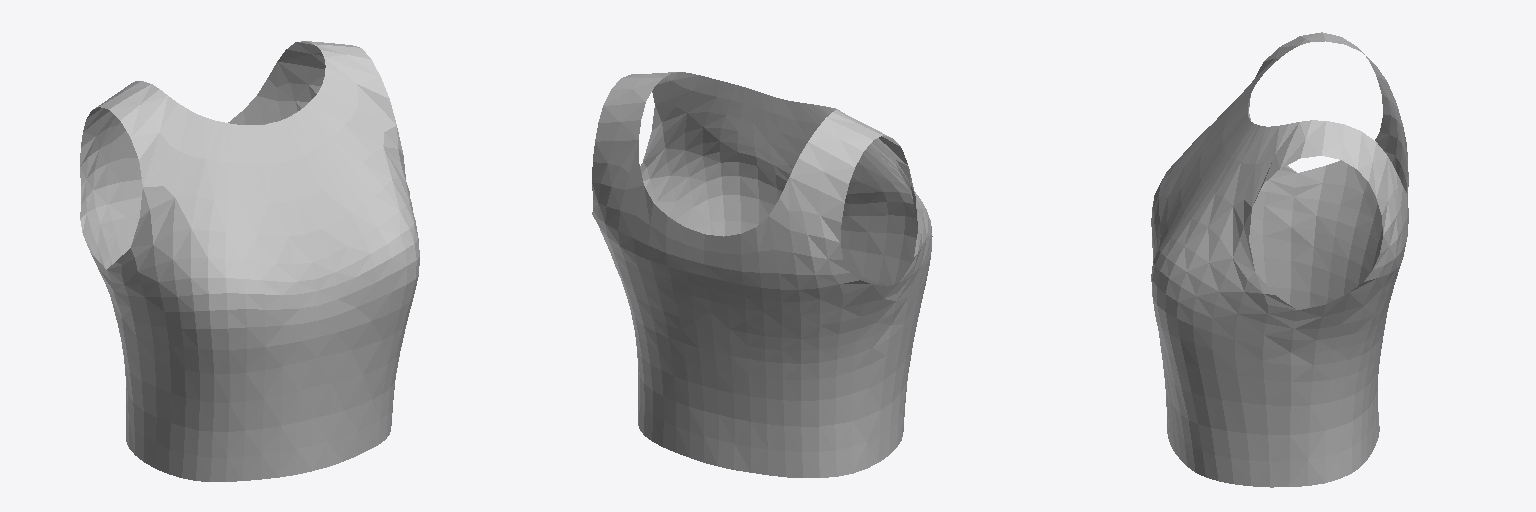
The model's file is 12_bodiceround.obj.
3 renders of one model, left to right at view 1: azimuth 30°, elevation 25°; view 2: azimuth 150°, elevation 25°; view 3: azimuth 270°, elevation 25°, orthographic.
Visible parts, largest first — view 1: bodicefrontleft, bodicefrontright, object_7, bodicebackleft, bodicebackright, bodiceback; view 2: bodiceback, bodicebackleft, bodicefrontleft, bodicebackright, object_7, bodicefrontright; view 3: object_7, bodicebackright, bodicebackleft, bodicefrontleft, bodicefrontright, bodiceback.
Boxes of the visible parts, <box> form: bodicefrontleft: <box>107,84,318,481</box>; bodicefrontright: <box>272,101,416,470</box>; object_7: <box>311,44,419,438</box>; bodicebackleft: <box>80,81,150,454</box>; bodicebackright: <box>257,41,359,124</box>; bodiceback: <box>121,96,262,241</box>; bodiceback: <box>633,186,785,476</box>; bodicebackleft: <box>769,118,899,477</box>; bodicefrontleft: <box>785,100,932,461</box>; bodicebackright: <box>592,78,663,446</box>; object_7: <box>623,72,735,236</box>; bodicefrontright: <box>720,85,807,235</box>; object_7: <box>1165,120,1325,487</box>; bodicebackright: <box>1289,121,1404,486</box>; bodicebackleft: <box>1290,32,1404,309</box>; bodicefrontleft: <box>1151,32,1325,304</box>; bodicefrontright: <box>1151,112,1256,472</box>; bodiceback: <box>1367,127,1408,459</box>.
Size of the model in its own units: 13.51 by 15.79 by 10.53.